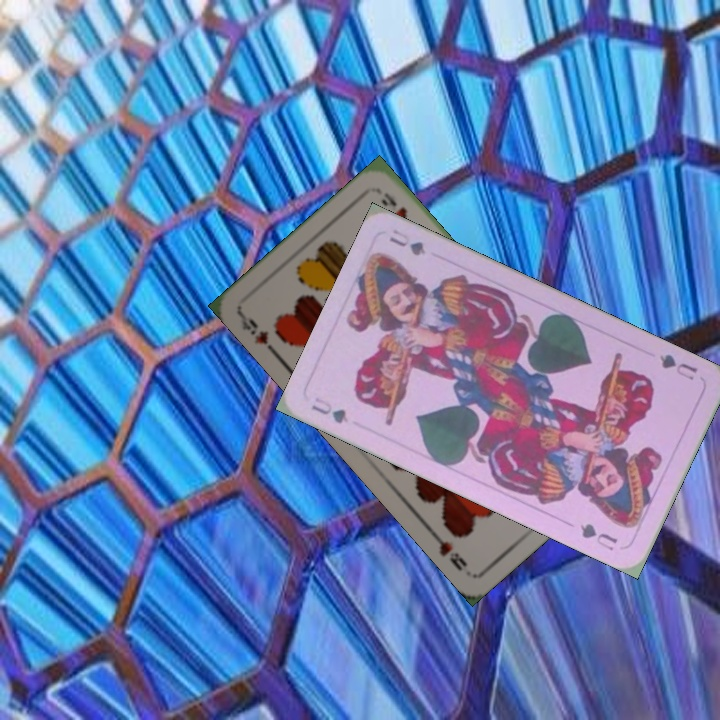GU: (653, 350, 700, 383), (307, 393, 351, 426)
H9: (236, 309, 280, 358)
